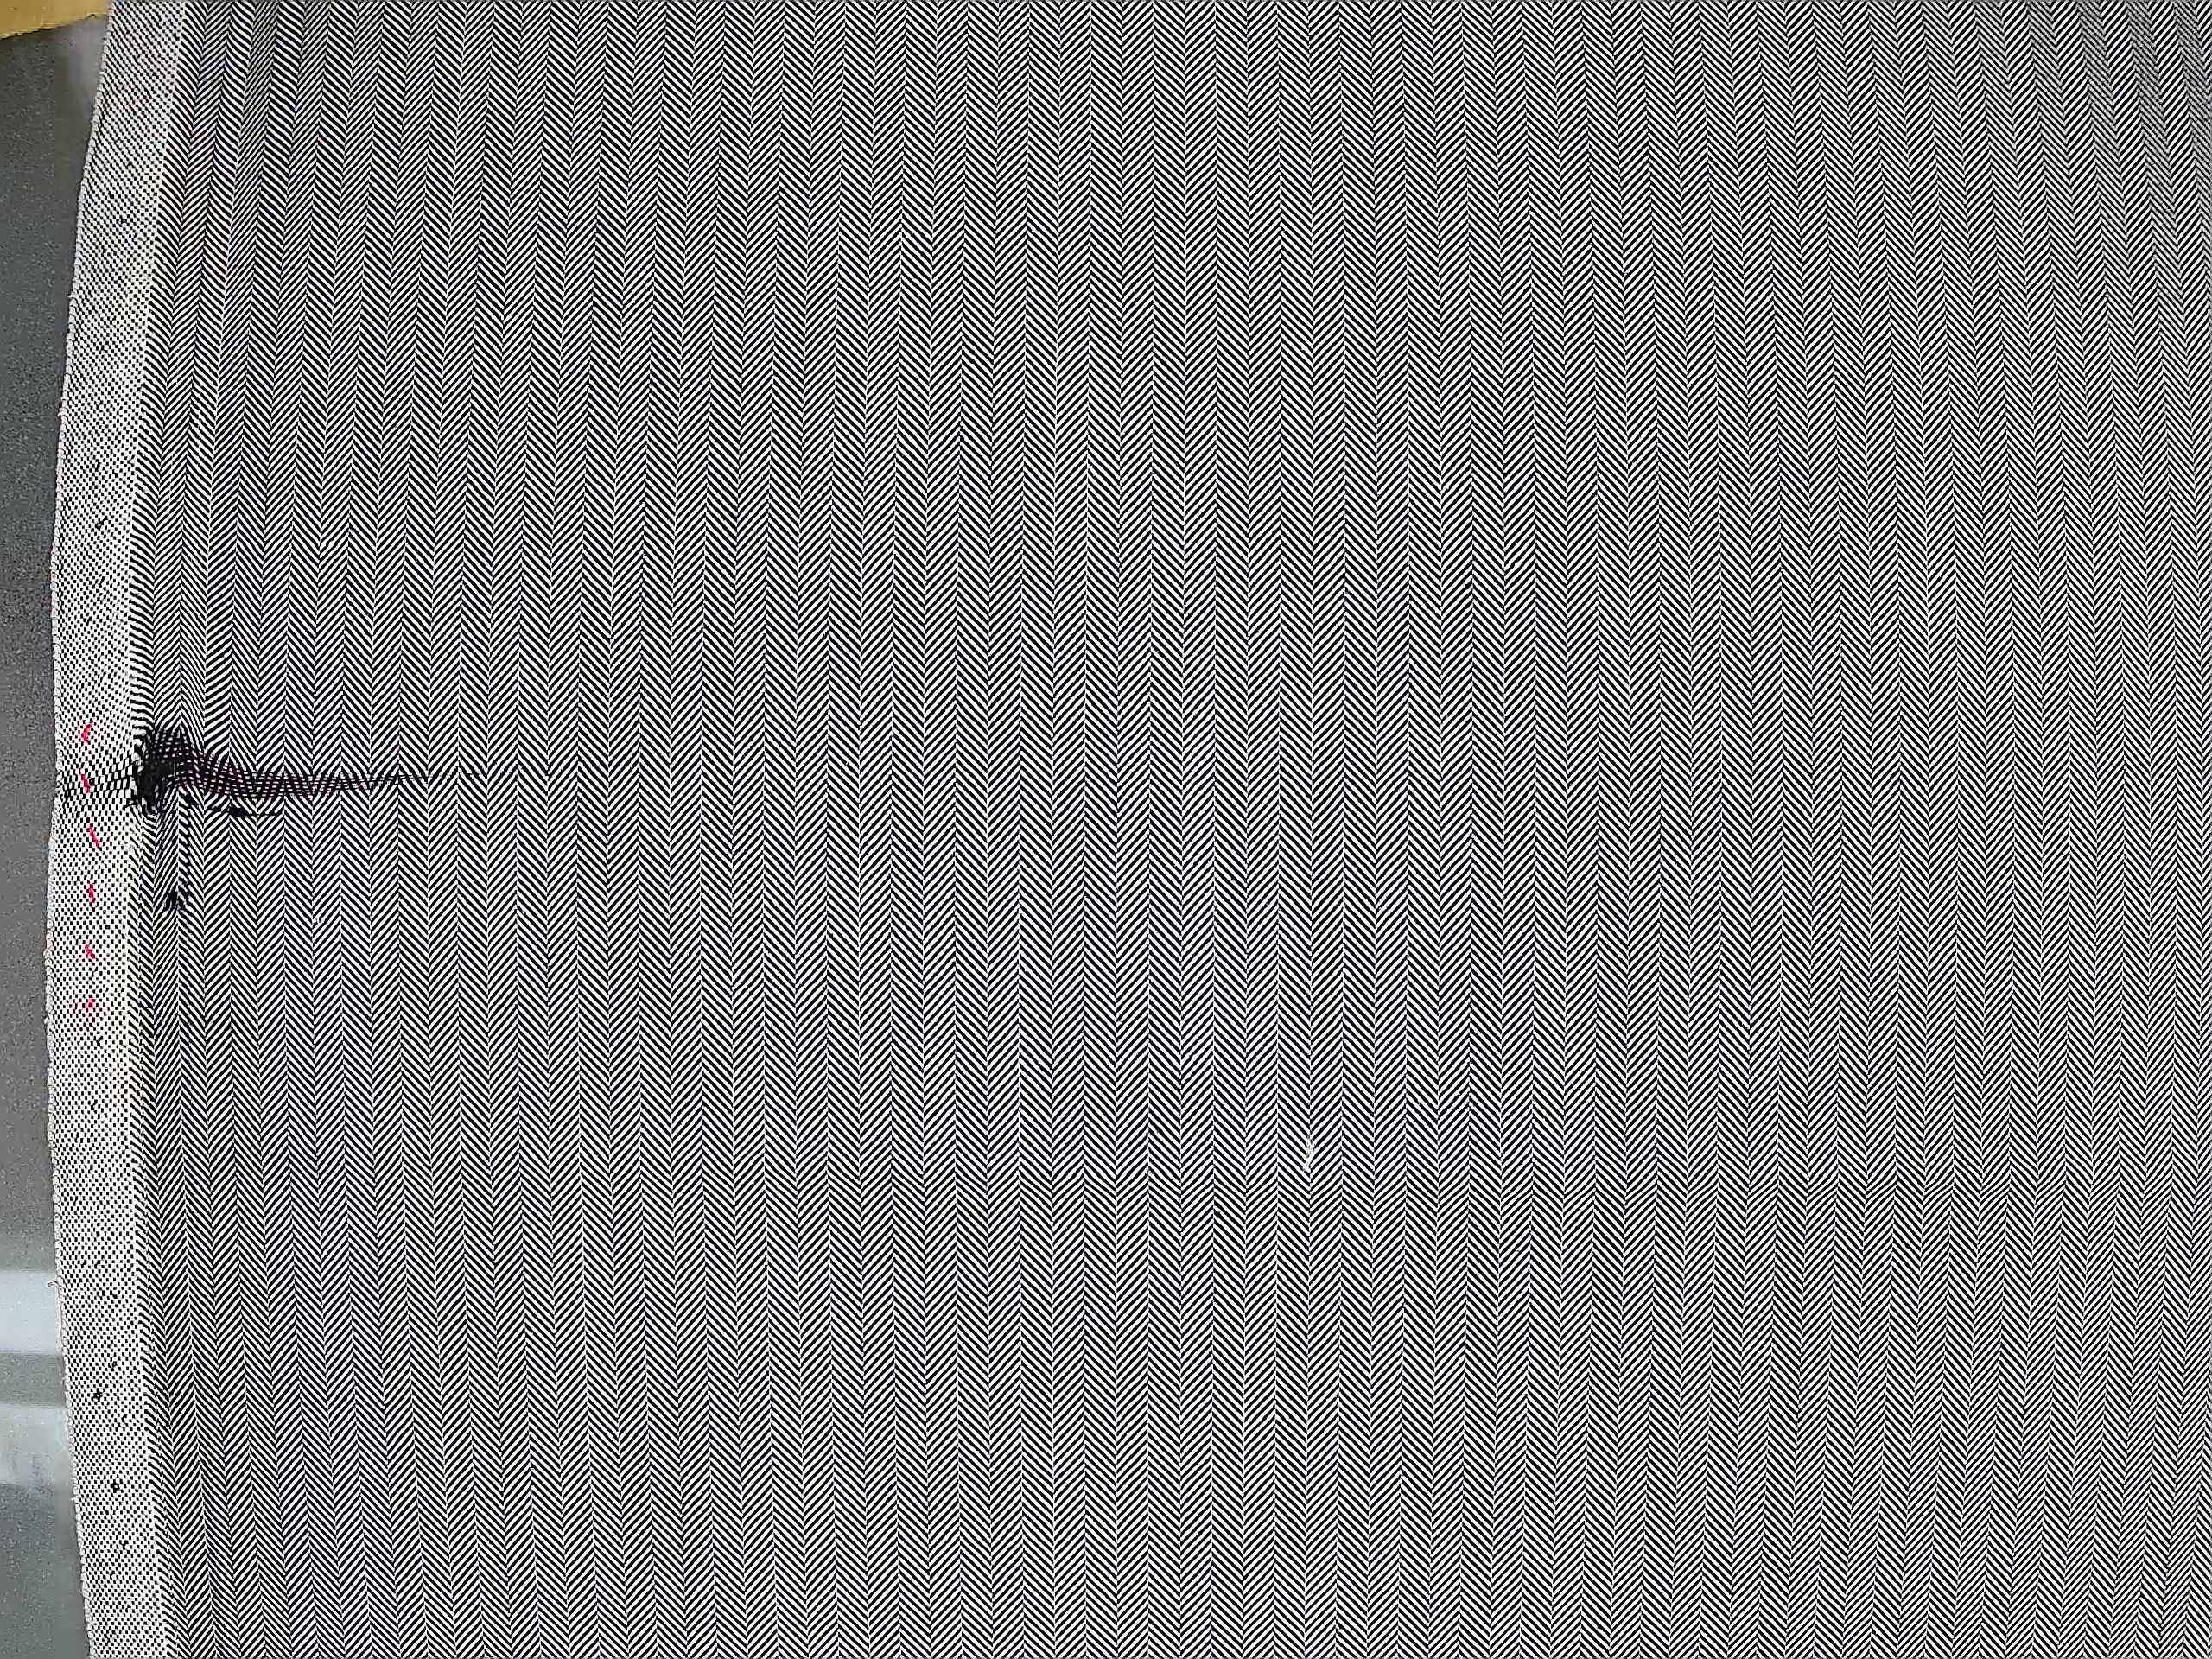thin-spinning: (127, 674, 498, 951)
